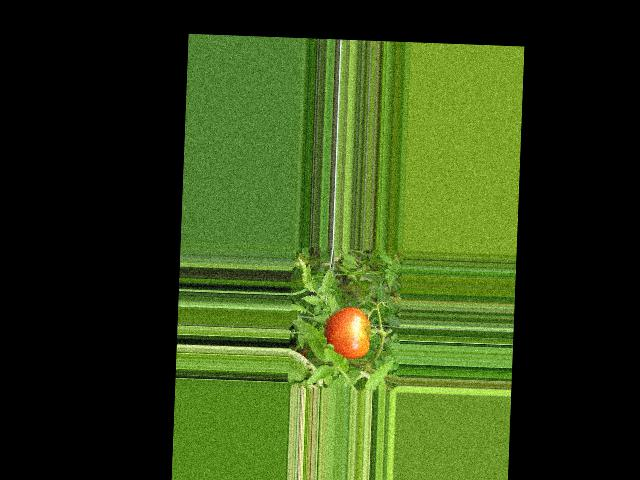tomato: (324, 306, 371, 359)
